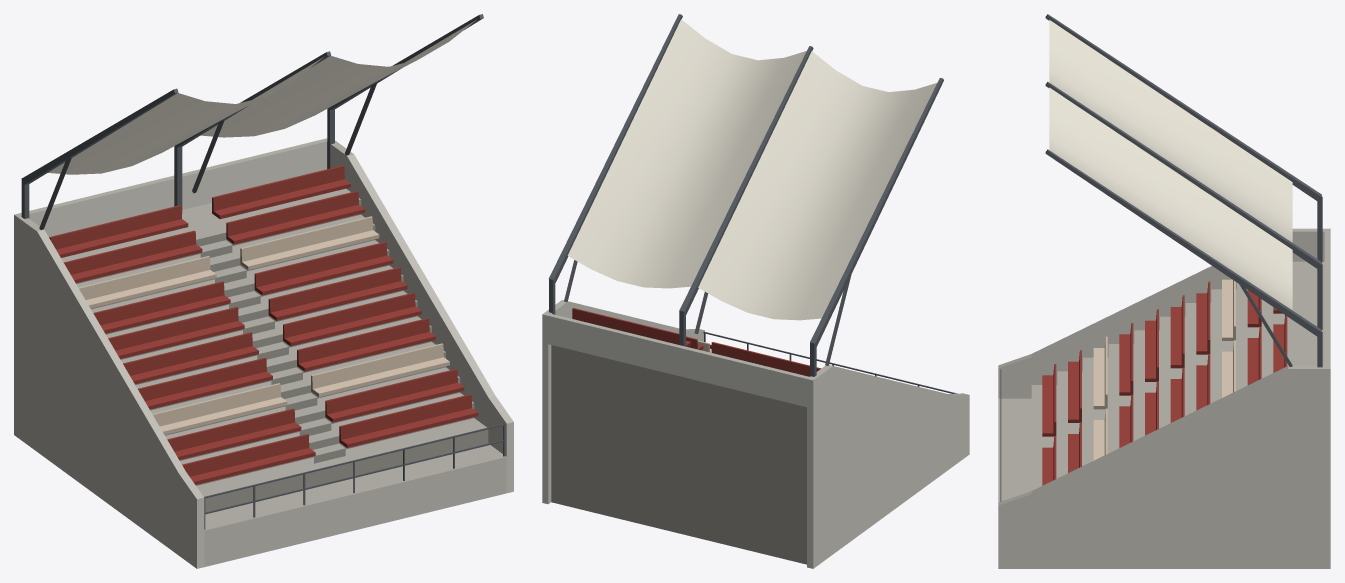
The model's file is grandstand_awning.glb.
3 renders of one model, left to right at view 1: azimuth 30°, elevation 25°; view 2: azimuth 150°, elevation 25°; view 3: azimuth 270°, elevation 25°, orthographic. The views are drawn at different scales.
Parts seen in each view (by area): view 1: grandstand_awning; view 2: grandstand_awning; view 3: grandstand_awning.
Part boxes in pixels (x1=…): grandstand_awning: x1=14, y1=14, x2=513, y2=568; grandstand_awning: x1=542, y1=14, x2=969, y2=568; grandstand_awning: x1=998, y1=14, x2=1330, y2=568.
Size of the model in its own units: 11 by 15.21 by 11.
